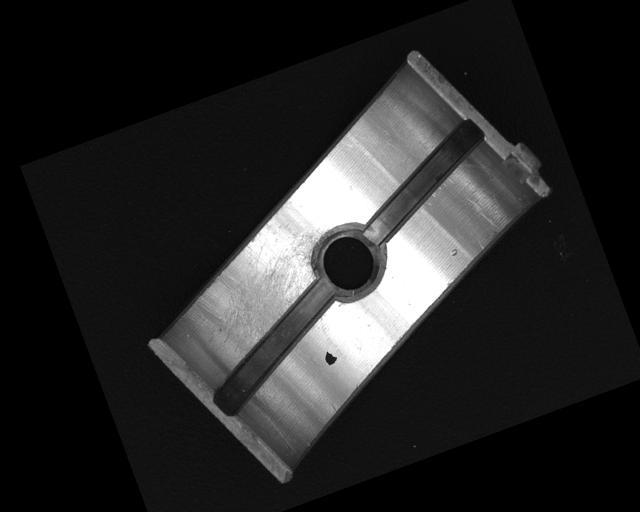blot: (321, 347, 340, 367)
bruise: (447, 245, 460, 258)
gap: (189, 276, 359, 417), (340, 116, 502, 244)
hole: (305, 216, 391, 305)
scratch: (173, 192, 360, 362)
